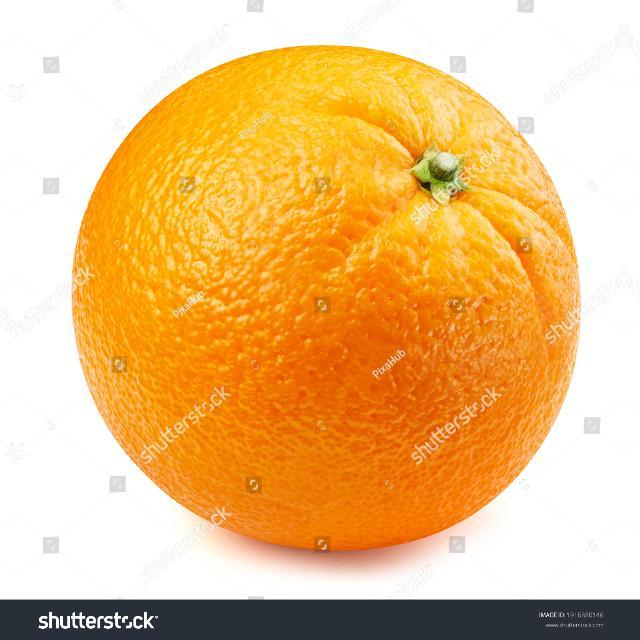Orange: (70, 42, 582, 553)
